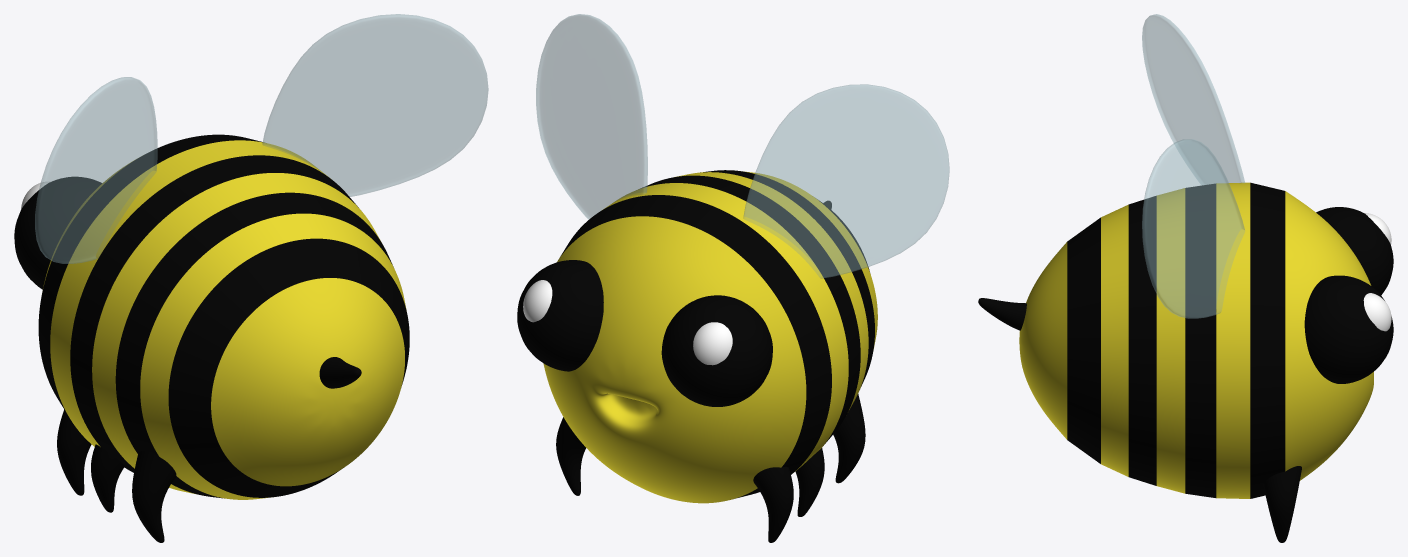
File: newWorkerbee2.fbx
3 views of the same model, side by side, from view 1: azimuth 30°, elevation 25°; view 2: azimuth 150°, elevation 25°; view 3: azimuth 270°, elevation 25° (orthographic). The views are drawn at different scales.
Visible parts, largest first — view 1: Cylinder.003, Plane, Sphere.001; view 2: Cylinder.003, Plane, Sphere.001; view 3: Cylinder.003, Plane, Sphere.001.
Boxes of the visible parts, x1,y1,x2,y2 form: Cylinder.003: (38,134,409,542); Plane: (35,14,488,263); Sphere.001: (14,176,101,289); Cylinder.003: (543,170,877,542); Plane: (536,14,949,278); Sphere.001: (517,260,772,406); Cylinder.003: (978,182,1373,542); Plane: (1142,14,1244,318); Sphere.001: (1304,207,1393,383).
Bounding box in the file's own units: 380 × 375 × 342.
